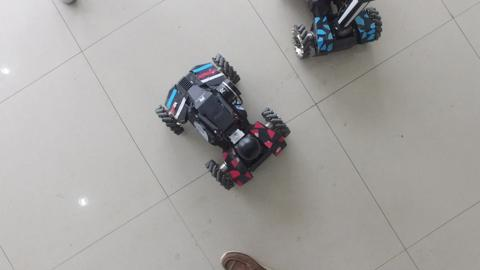chariot: (146, 50, 294, 195), (285, 1, 387, 63)
